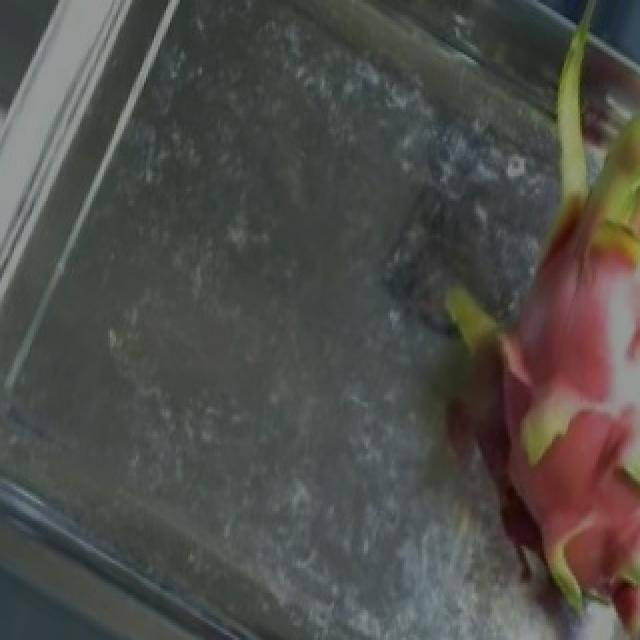fruit: (344, 206, 640, 635)
